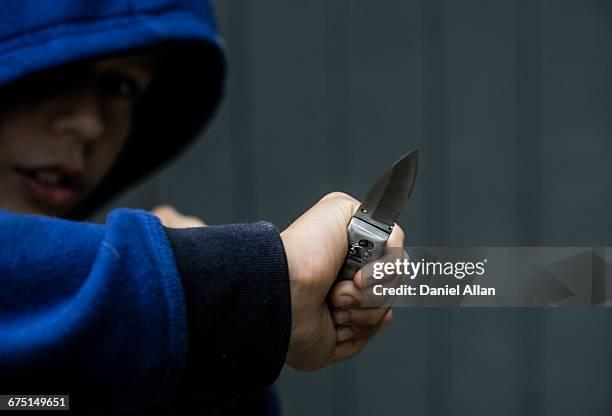Knife: (0, 0, 421, 416), (286, 191, 407, 372), (348, 147, 419, 253)
